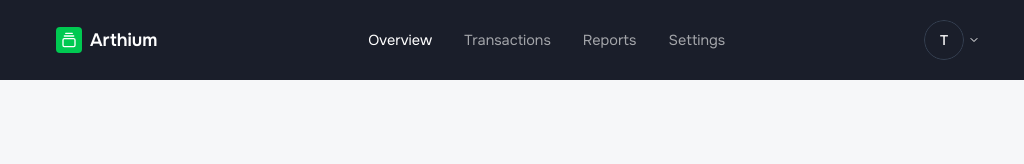
Navbar › opens the user menu showing the logout option
Click the button "T". click: (952, 40)
box: [936,24,968,56]
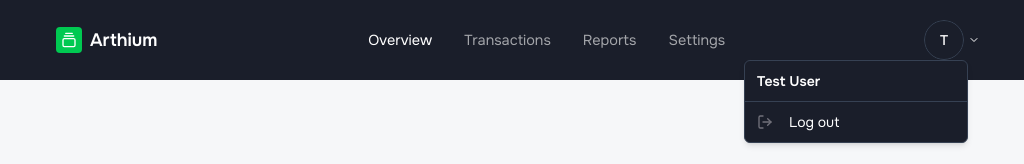
expect the menu item "Log out" is shown: met, box [757,113,839,131]
